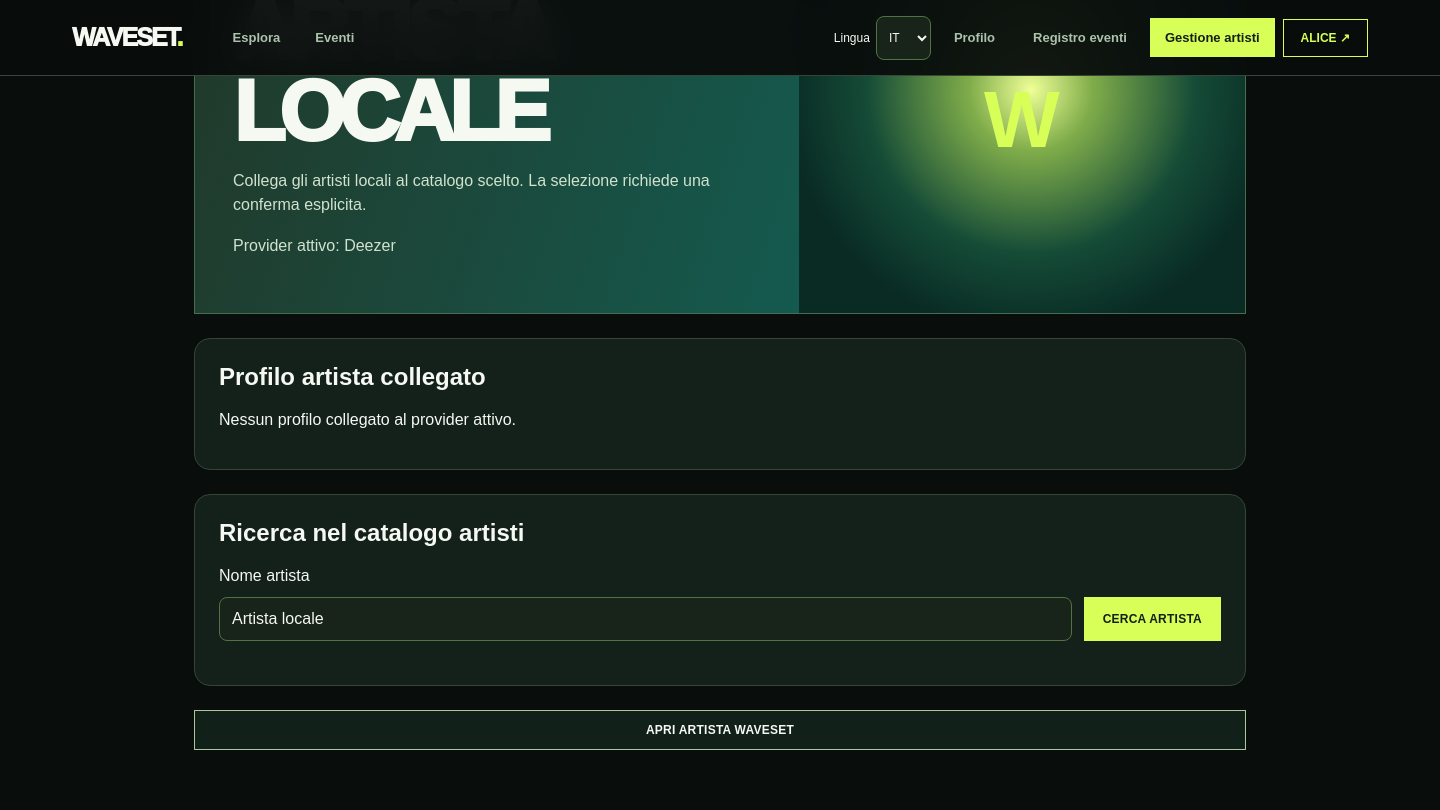
Scenario: ricerca vuota e senza immagine: messaggi chiari, nessun collegamento inventato
The width and height of the screenshot is (1440, 810).
(page scrolled)
Step 1. Click the button "Cerca artista" → point(1152, 619), box [1084,597,1221,641]
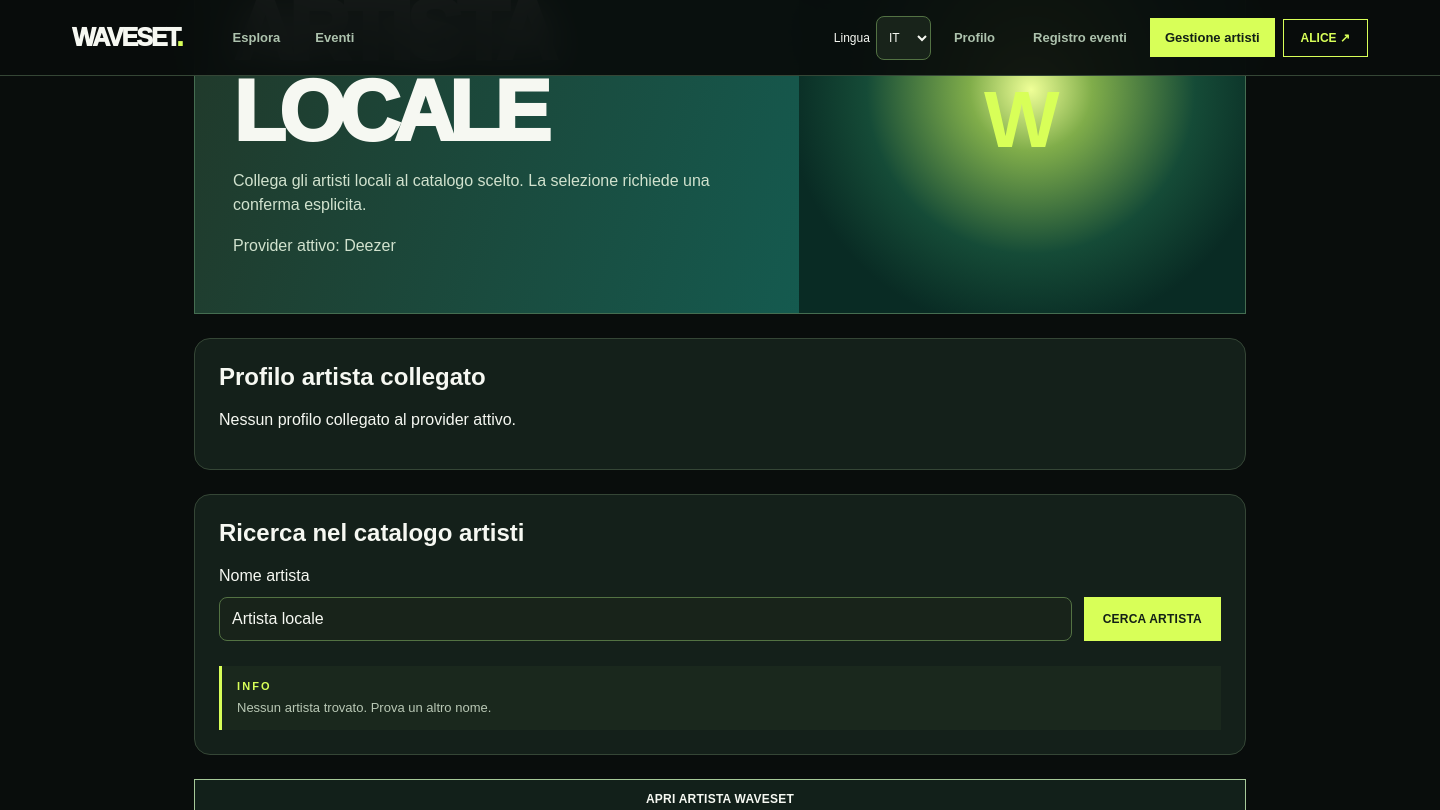
Expected: the text "Nessun artista trovato. Prova un altro nome." is shown, [237,700,491,715]
